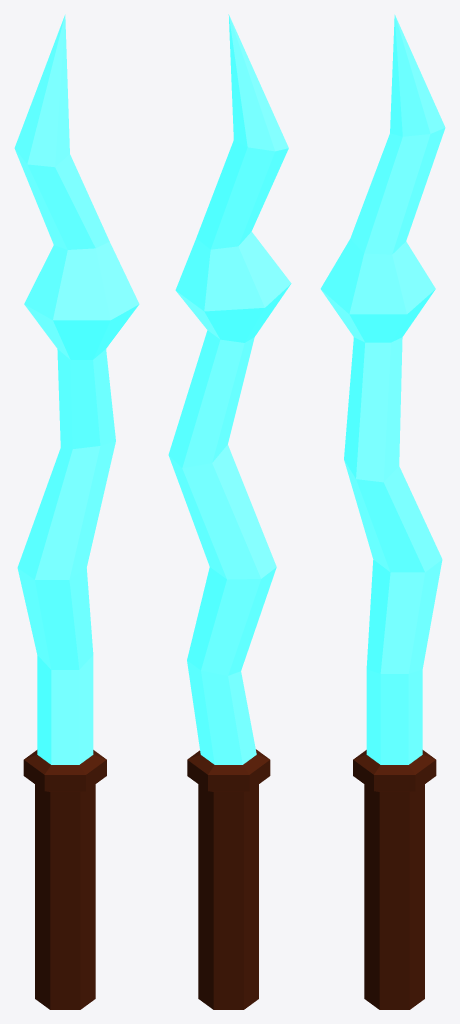
The model's file is Q4_wand.fbx.
The picture shows the model from 3 angles, left to right: view 1: azimuth 90°, elevation 25°; view 2: azimuth 210°, elevation 25°; view 3: azimuth 270°, elevation 25°; orthographic projection.
Visible parts, largest first — view 1: wand; view 2: wand; view 3: wand.
Part boxes in pixels (left/top/right/bottom): wand: left=14, top=14, right=139, bottom=1009; wand: left=168, top=14, right=291, bottom=1009; wand: left=320, top=14, right=445, bottom=1009.
Size of the model in its own units: 5.66 by 54.63 by 6.29.
